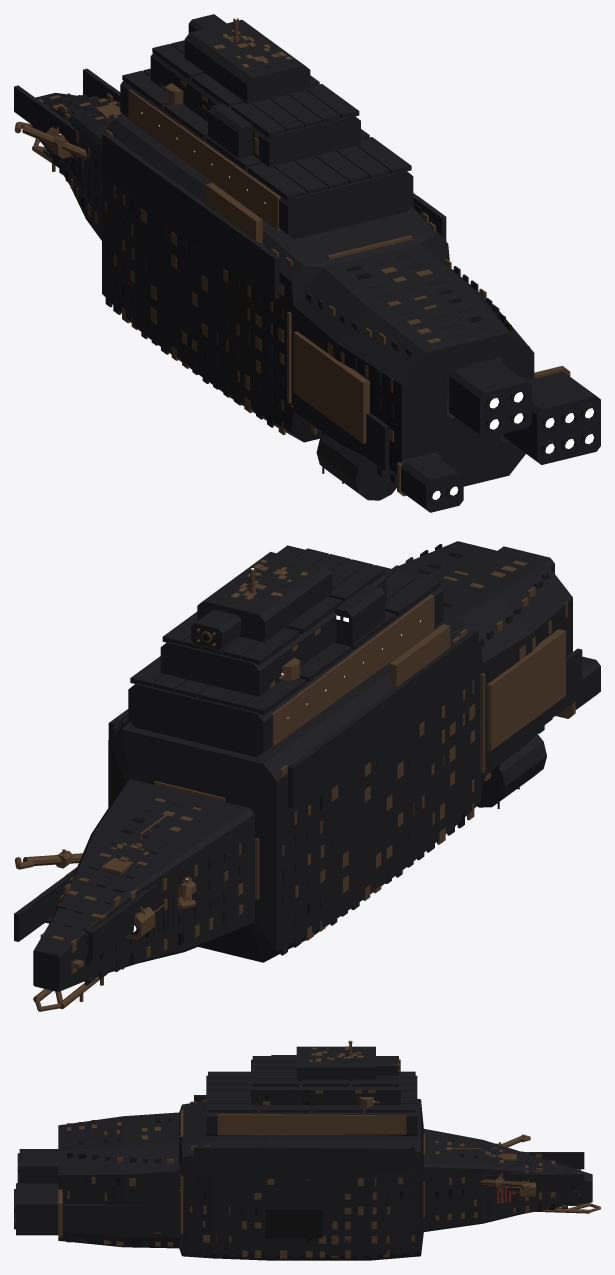
The picture shows the model from 3 angles, top to bottom: view 1: azimuth 30°, elevation 25°; view 2: azimuth 150°, elevation 25°; view 3: azimuth 270°, elevation 25°; orthographic projection. The views are drawn at different scales.
Visible parts, largest first — view 1: RIMWARD_HULL, RIMWARD_EMISSIVE; view 2: RIMWARD_HULL; view 3: RIMWARD_HULL.
Boxes of the visible parts, x1,y1,x2,y2 form: RIMWARD_HULL: (14,14,600,512); RIMWARD_EMISSIVE: (59,18,594,499); RIMWARD_HULL: (14,541,600,1011); RIMWARD_HULL: (14,1040,600,1260).
Size of the model in its own units: 7.78 by 12.86 by 33.4.
